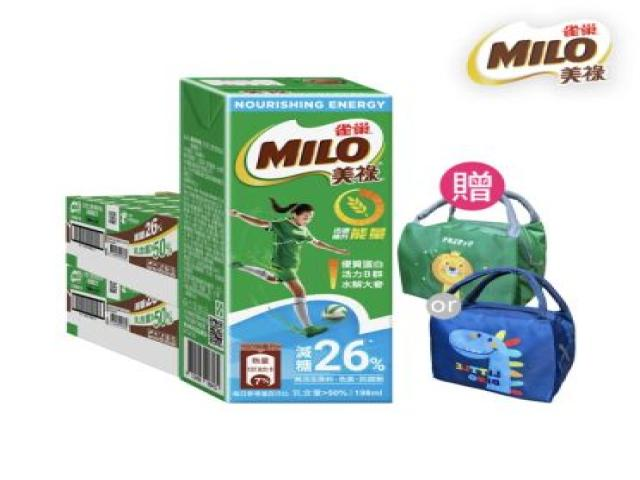drink_box: (180, 78, 391, 402)
